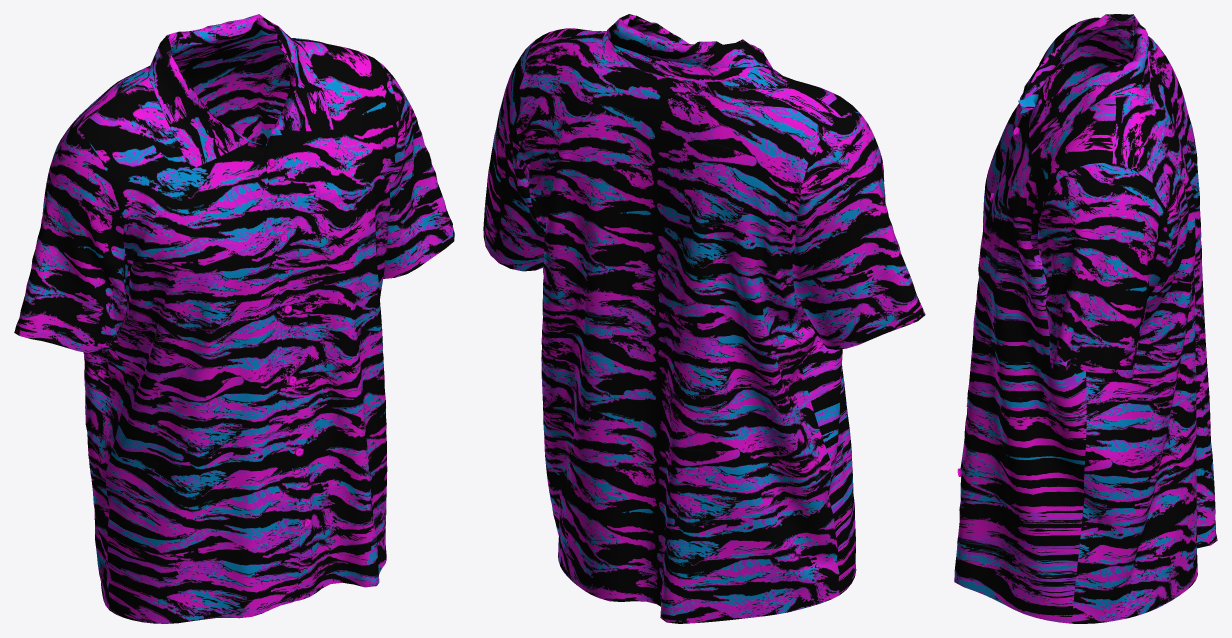
Rendered from synth-tiger.glb.
The picture shows the model from 3 angles, left to right: view 1: azimuth 30°, elevation 25°; view 2: azimuth 150°, elevation 25°; view 3: azimuth 270°, elevation 25°; orthographic projection. The views are drawn at different scales.
Visible parts, largest first — view 1: Object_6, Object_13, Object_3, Object_5, Object_12, Object_4, Object_11, Object_8, Object_7; view 2: Object_3, Object_13, Object_6, Object_12, Object_5, Object_8; view 3: Object_3, Object_6, Object_12, Object_5, Object_13, Object_11, Object_7, Object_4.
Part boxes in pixels (left/top/right/bottom): Object_6: left=78, top=40, right=398, bottom=623; Object_13: left=16, top=127, right=128, bottom=347; Object_3: left=67, top=37, right=331, bottom=609; Object_5: left=144, top=14, right=333, bottom=169; Object_12: left=375, top=59, right=452, bottom=271; Object_4: left=245, top=124, right=311, bottom=600; Object_11: left=319, top=175, right=376, bottom=285; Object_8: left=14, top=325, right=111, bottom=353; Object_7: left=383, top=227, right=454, bottom=278; Object_3: left=515, top=33, right=840, bottom=623; Object_13: left=792, top=111, right=921, bottom=342; Object_6: left=532, top=28, right=861, bottom=594; Object_12: left=483, top=40, right=544, bottom=264; Object_5: left=602, top=14, right=782, bottom=81; Object_8: left=820, top=307, right=925, bottom=349; Object_3: left=1071, top=30, right=1217, bottom=623; Object_6: left=954, top=17, right=1116, bottom=623; Object_12: left=1037, top=163, right=1171, bottom=370; Object_5: left=1024, top=14, right=1150, bottom=154; Object_13: left=1037, top=28, right=1133, bottom=104; Object_11: left=978, top=180, right=1008, bottom=298; Object_7: left=1050, top=358, right=1134, bottom=378; Object_4: left=960, top=96, right=1035, bottom=479.
Size of the model in its own units: 0.589 by 0.7019 by 0.3166.
2 materials, 1 textured.
